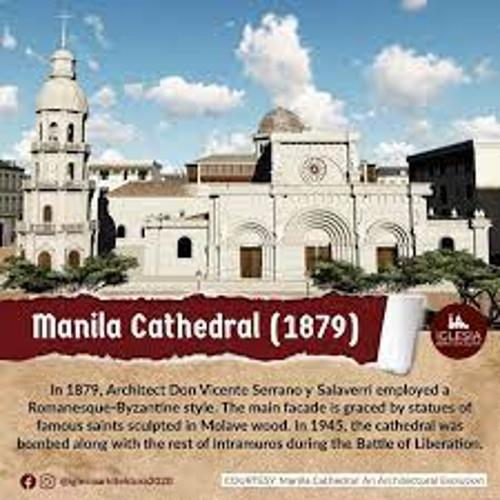Manila Cathedral Church: (8, 9, 445, 293)
